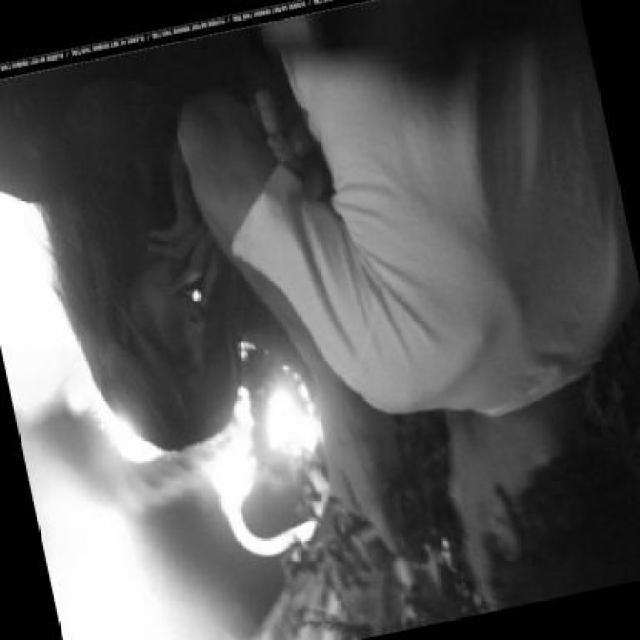smoke: (174, 277, 200, 306)
